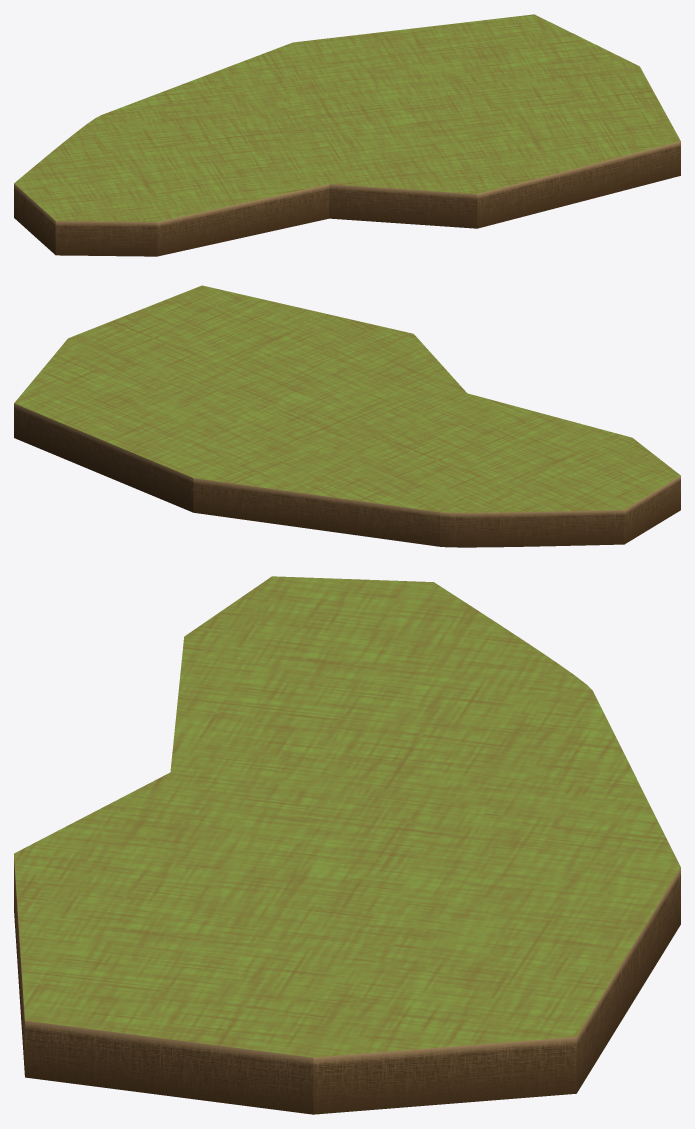
Rendered from Terrain02_E.FBX.
The picture shows the model from 3 angles, top to bottom: view 1: azimuth 30°, elevation 25°; view 2: azimuth 150°, elevation 25°; view 3: azimuth 270°, elevation 25°; orthographic projection. The views are drawn at different scales.
Parts seen in each view (by area): view 1: Terrain02_E; view 2: Terrain02_E; view 3: Terrain02_E.
Boxes of the visible parts, x1,y1,x2,y2 form: Terrain02_E: (14, 14, 680, 256); Terrain02_E: (14, 285, 680, 547); Terrain02_E: (14, 576, 680, 1114).
Bounding box in the file's own units: 917 × 50.55 × 537.
1 material, 1 textured.
